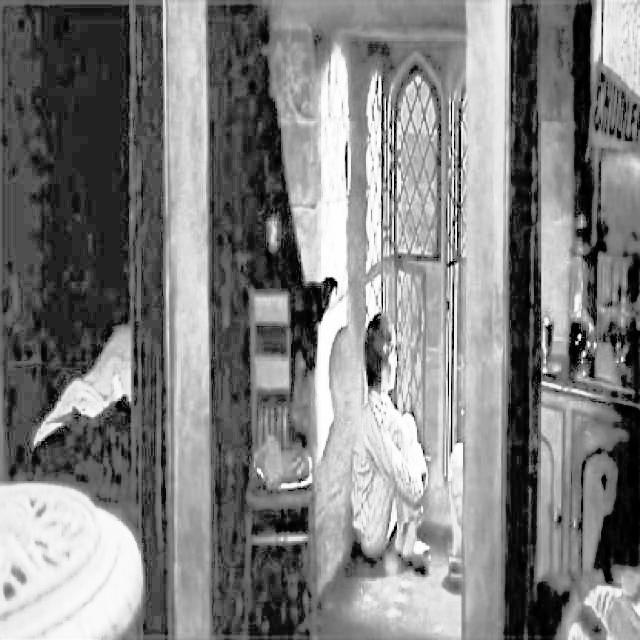Person: (347, 308, 432, 581)
